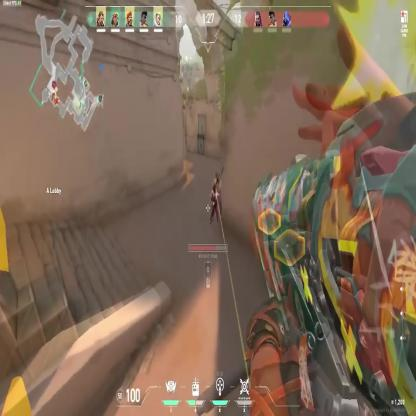enemy: (212, 171, 223, 219), (209, 183, 220, 223)
enemy_head: (215, 171, 219, 180), (212, 186, 216, 192)
